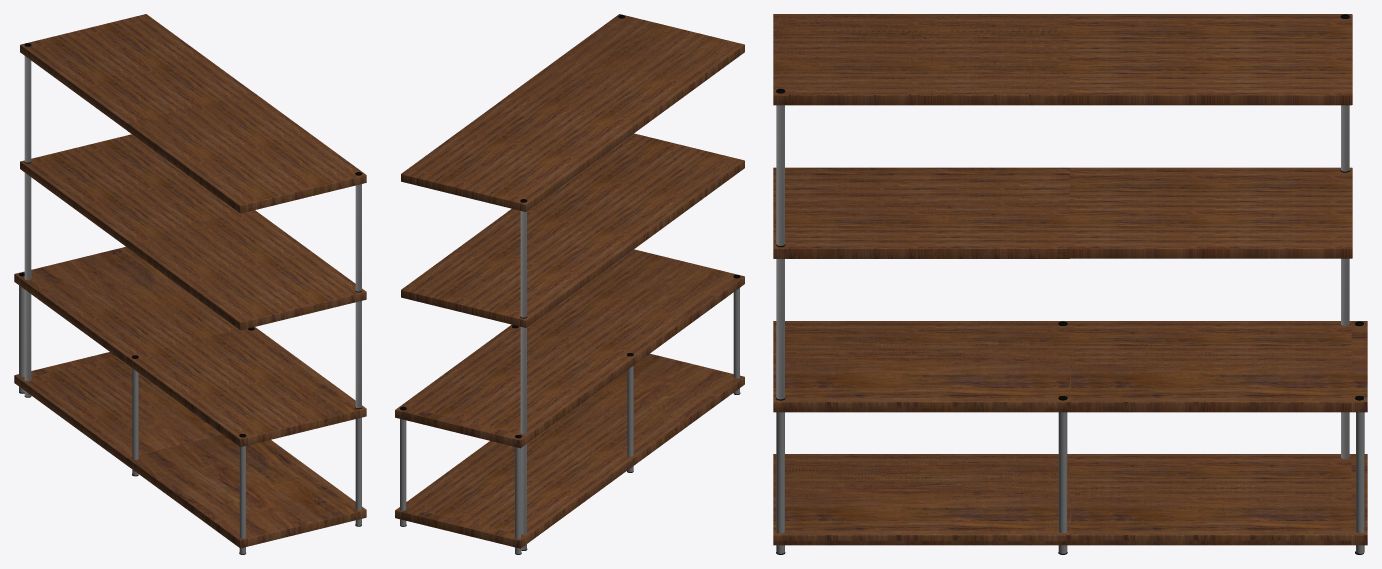
File: rack-agregado.glb
3 renders of one model, left to right at view 1: azimuth 30°, elevation 25°; view 2: azimuth 150°, elevation 25°; view 3: azimuth 270°, elevation 25°, orthographic. The views are drawn at different scales.
Visible parts, largest first — view 1: 06-tabla, 05-tabla, 04-tabla-sup, 01-tabla-inf, 04-tabla-inf, 01-tabla-sup.001, 02-tabla, 01-tabla-sup, 03-tabla, 01-tabla-inf.001, 01-caño, 05-caños (+5 smaller); view 2: 06-tabla, 05-tabla, 04-tabla-sup, 04-tabla-inf, 03-tabla, 01-tabla-inf, 01-tabla-sup, 01-tabla-sup.001, 01-tabla-inf.001, 02-tabla, 01-caño, 05-caños (+4 smaller); view 3: 06-tabla, 05-tabla, 04-tabla-inf, 04-tabla-sup, 01-tabla-inf, 01-tabla-sup, 03-tabla, 02-tabla, 01-tabla-inf.001, 01-tabla-sup.001, 01-caño, 03-caño (+2 smaller).
Part boxes in pixels (x1,y1,x2,y2): 06-tabla: [20, 14, 365, 211]; 05-tabla: [20, 134, 365, 327]; 04-tabla-sup: [20, 254, 351, 438]; 01-tabla-inf: [127, 435, 366, 548]; 04-tabla-inf: [20, 356, 291, 539]; 01-tabla-sup.001: [14, 247, 233, 363]; 02-tabla: [127, 210, 366, 330]; 01-tabla-sup: [127, 327, 366, 446]; 03-tabla: [127, 92, 366, 213]; 01-tabla-inf.001: [14, 352, 222, 465]; 01-caño: [132, 368, 361, 554]; 05-caños: [24, 173, 31, 280]; 06-tabla: [401, 14, 743, 211]; 05-tabla: [401, 133, 743, 327]; 04-tabla-sup: [402, 249, 739, 442]; 04-tabla-inf: [406, 355, 743, 536]; 03-tabla: [508, 14, 744, 133]; 01-tabla-inf: [541, 353, 744, 465]; 01-tabla-sup: [507, 249, 744, 365]; 01-tabla-sup.001: [395, 328, 632, 448]; 01-tabla-inf.001: [395, 436, 632, 548]; 02-tabla: [507, 133, 744, 249]; 01-caño: [627, 288, 739, 472]; 05-caños: [520, 327, 526, 434]; 06-tabla: [774, 14, 1352, 105]; 05-tabla: [774, 167, 1352, 258]; 04-tabla-inf: [774, 454, 1351, 544]; 04-tabla-sup: [774, 321, 1351, 411]; 01-tabla-inf: [773, 454, 1070, 545]; 01-tabla-sup: [773, 321, 1070, 412]; 03-tabla: [773, 14, 1070, 105]; 02-tabla: [773, 167, 1070, 258]; 01-tabla-inf.001: [1070, 454, 1367, 545]; 01-tabla-sup.001: [1070, 321, 1367, 412]; 01-caño: [776, 412, 1067, 553]; 03-caño: [776, 105, 784, 245].
Bounding box in the file's own units: 0.3406 × 0.9035 × 1.05.
19 materials, 6 textured.
